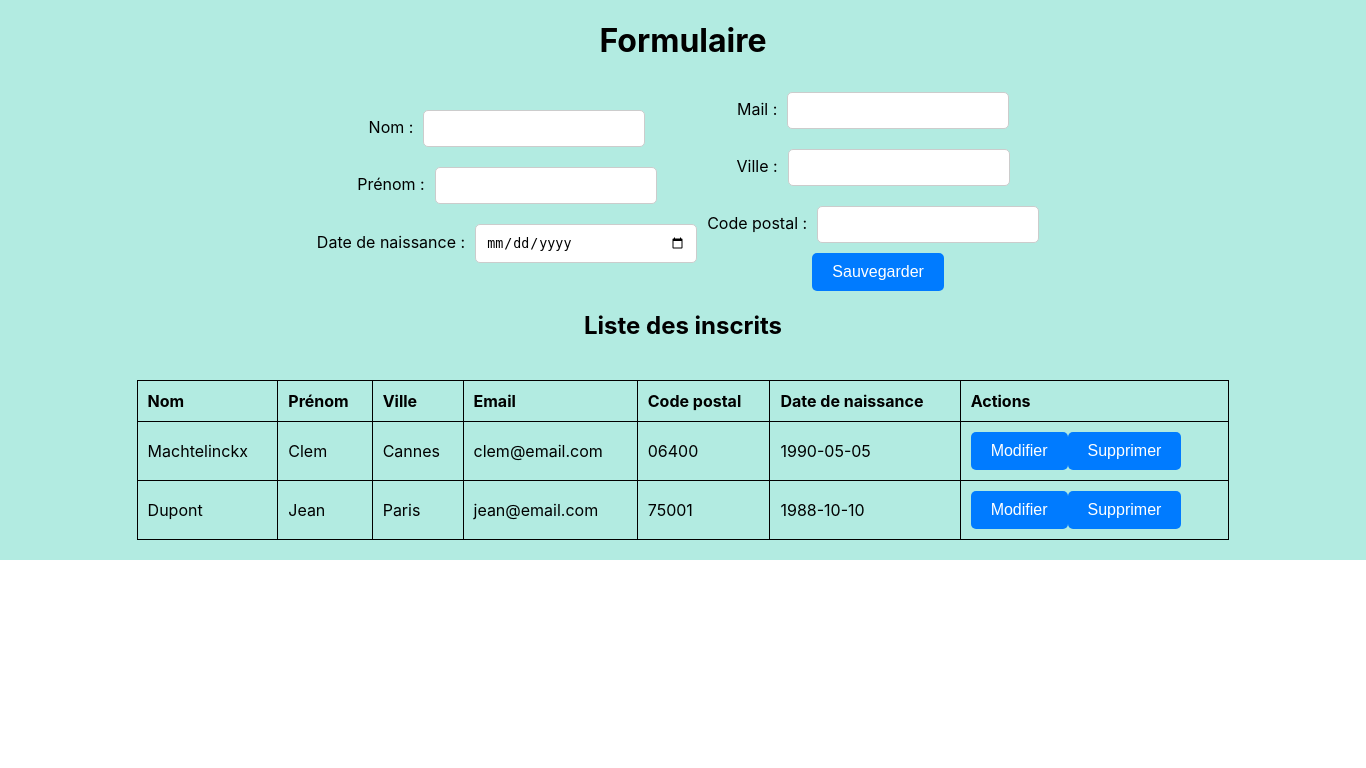
Form › deletes a user through the admin API and updates the list
Step 1. Click the button "Supprimer" in the row of "Machtelinckx" → (1124, 451), box [1068, 432, 1181, 470]
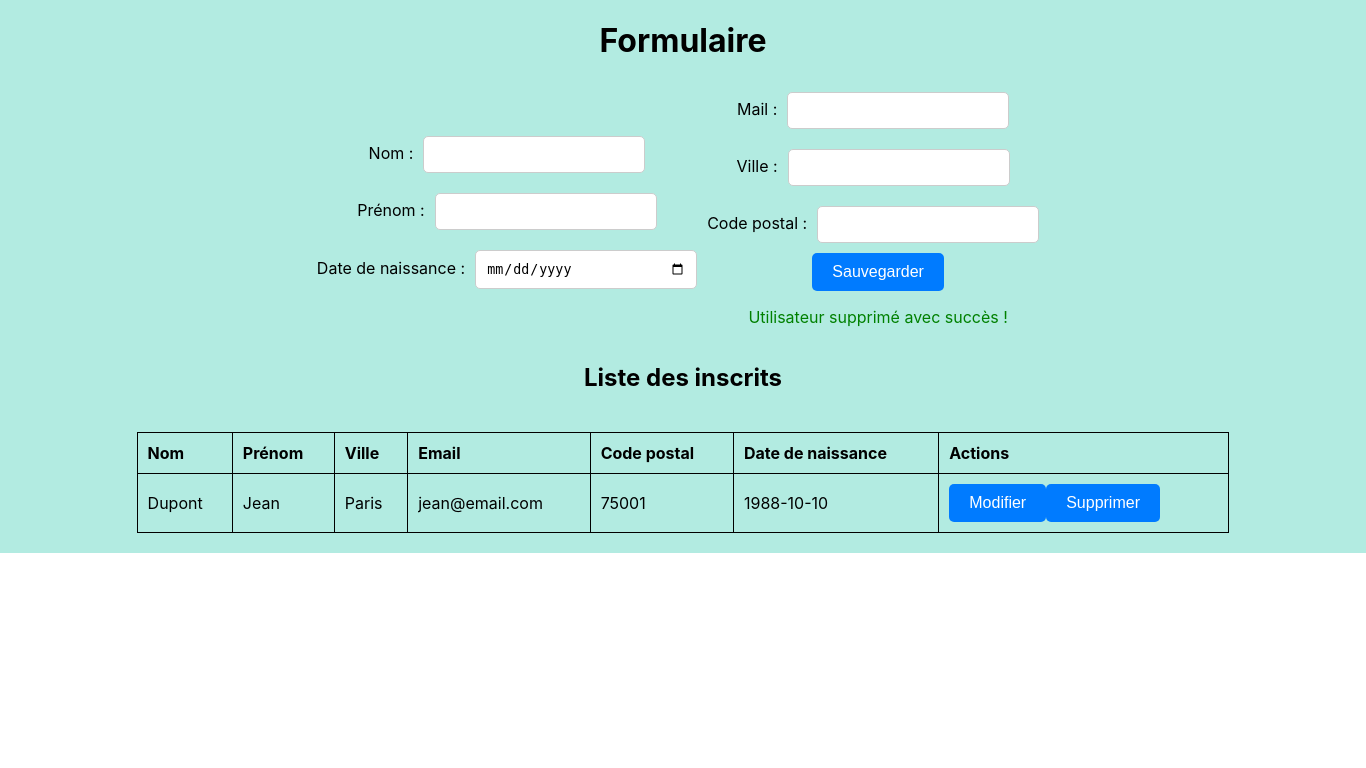
expect the text "Jean" is shown: met, box [232, 473, 334, 532]
expect the message shows "Utilisateur supprimé avec succès": met, box [748, 307, 1008, 327]
expect the text "Clem" is gone: met
